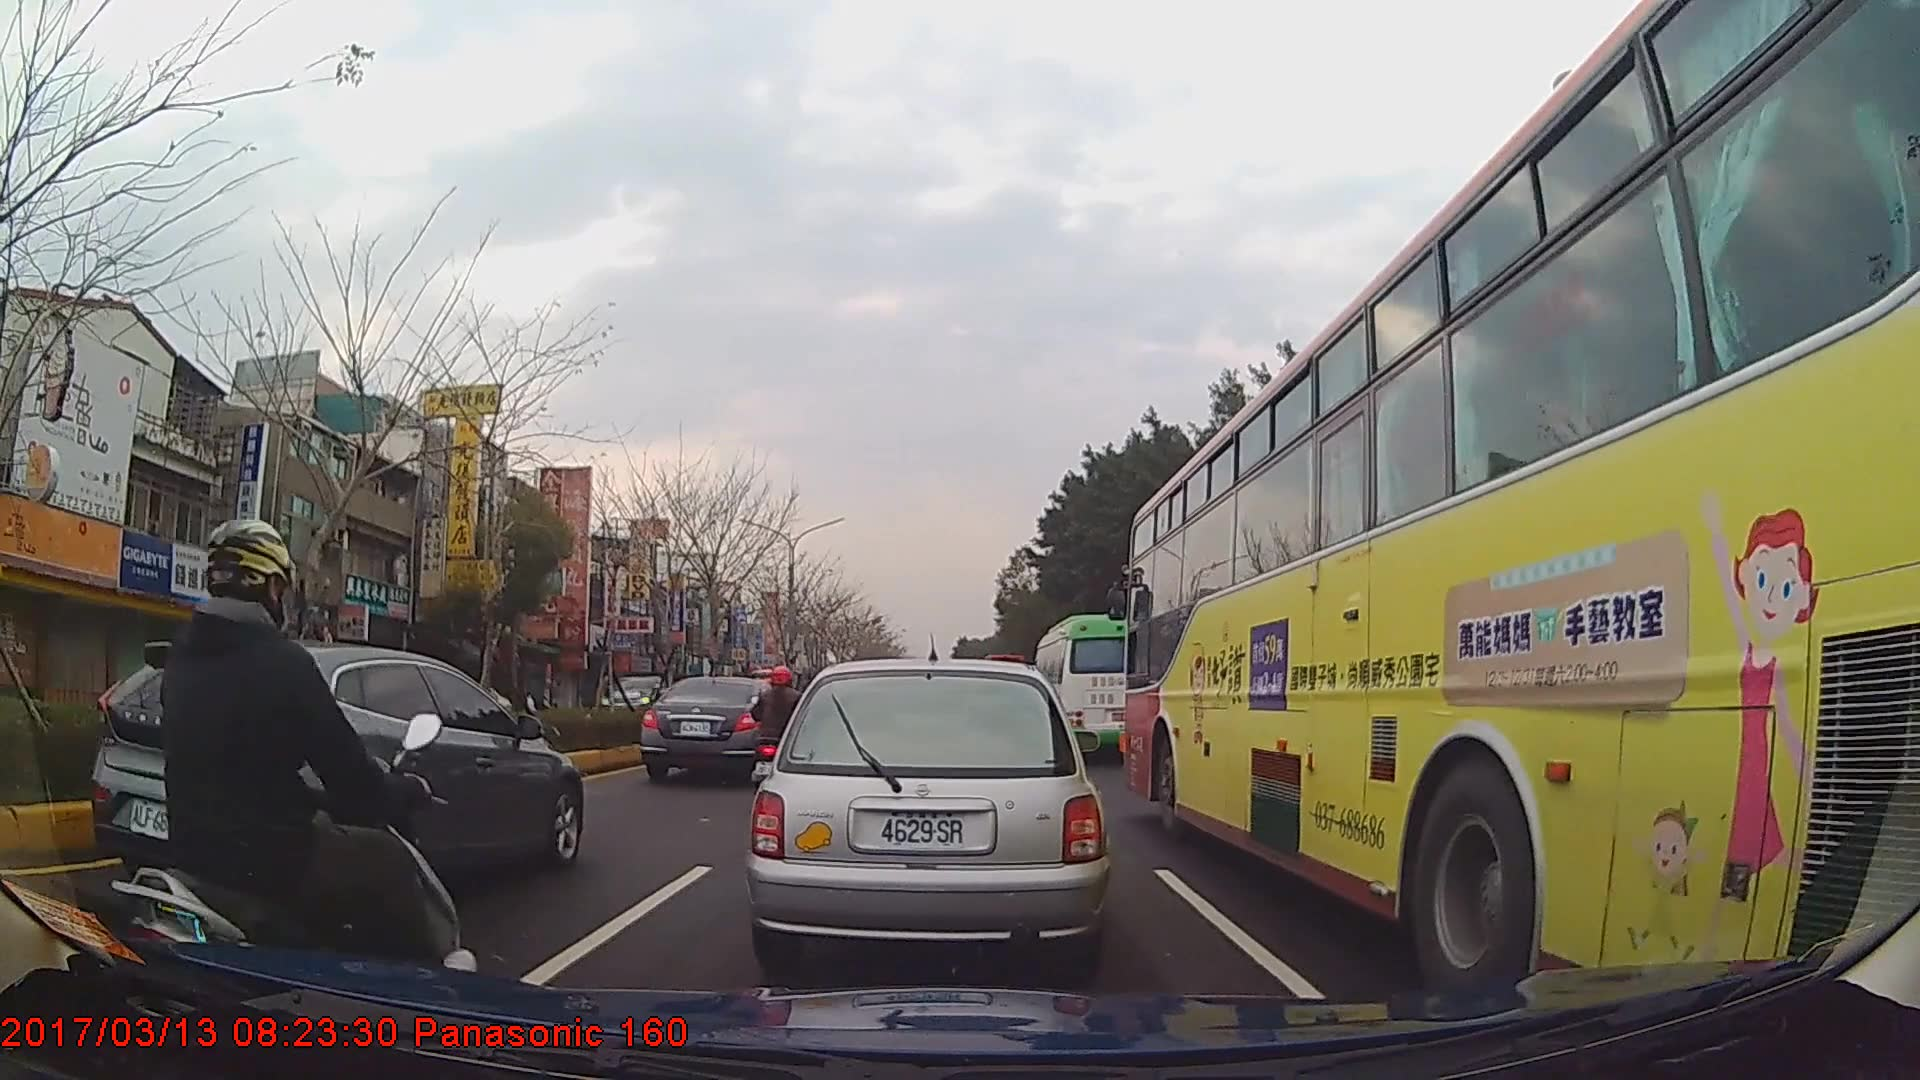rider: (140, 512, 467, 1014), (752, 666, 811, 799)
vehicle: (1122, 0, 1920, 1014), (84, 635, 583, 923), (751, 655, 1110, 976), (1033, 612, 1153, 762), (641, 673, 796, 785)
